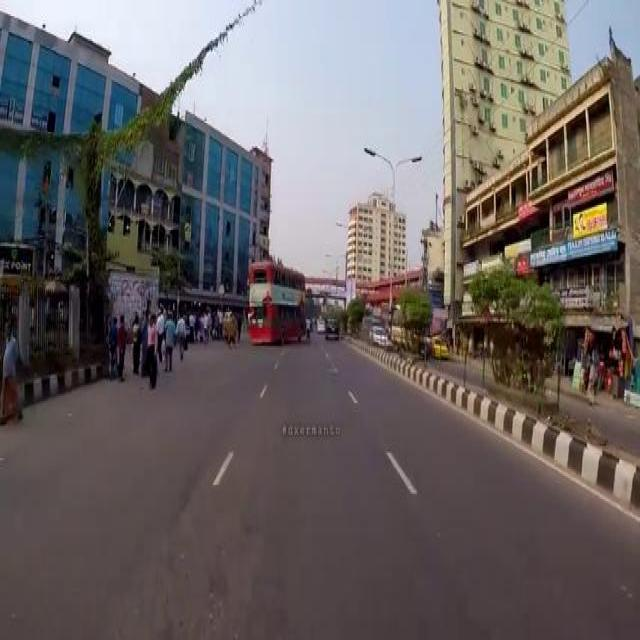16: (433, 335, 447, 355)
5: (368, 322, 387, 338)
Truck: (247, 256, 306, 341)
